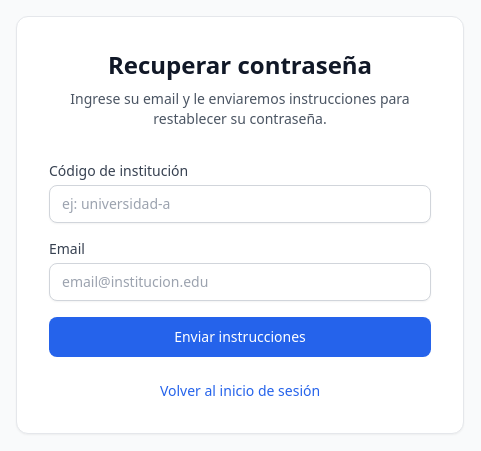
RecoveryPage › shows success message after submission
The image size is (481, 451).
Type "test" into the field labelled "Código de institución" at (240, 204), box [49, 185, 431, 223]
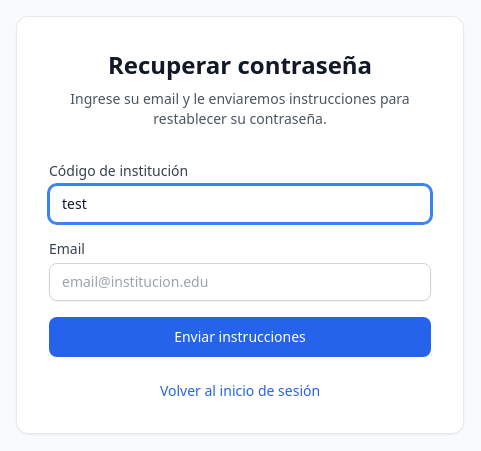
Type "user@test.com" into the field labelled "Email" at (240, 282), box [49, 263, 431, 301]
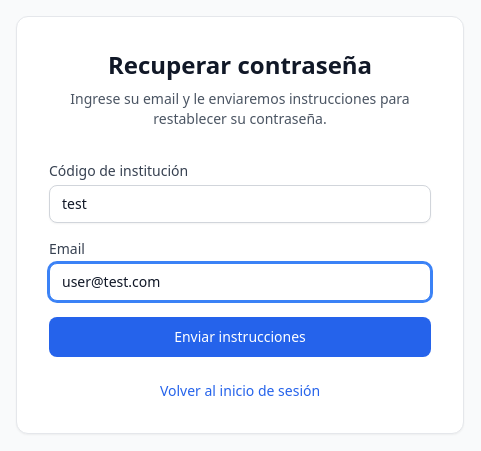
Click the button "Enviar instrucciones" at (240, 337), box [49, 317, 431, 357]
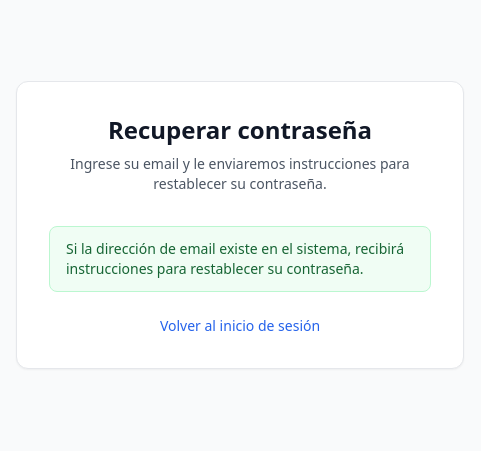
Expected: the text "recibirá instrucciones" is shown, [66, 239, 404, 278]
